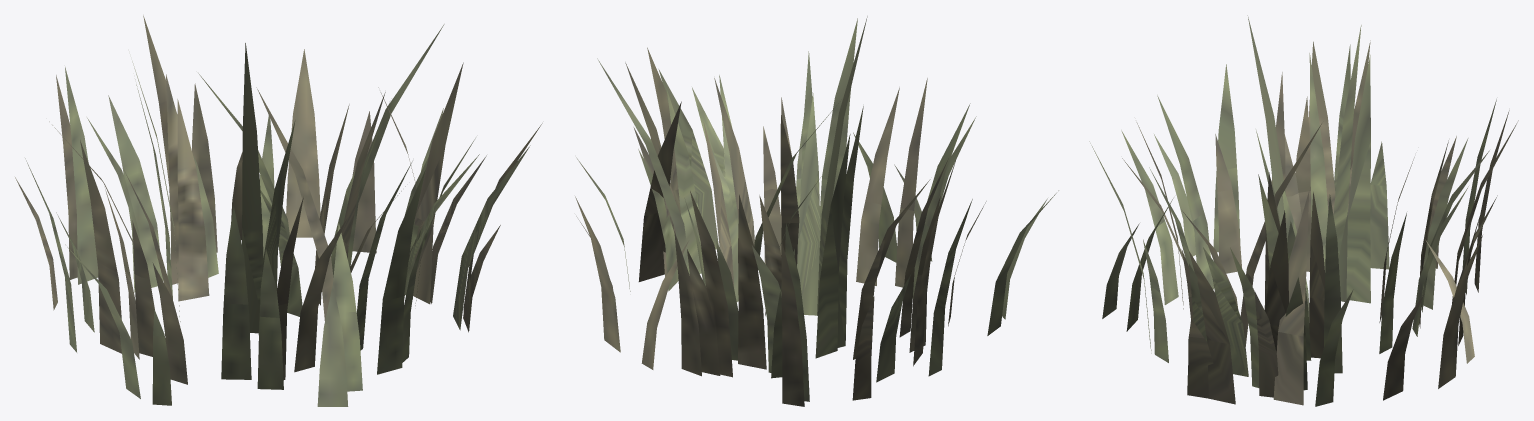
The model's file is grass_tuft_tall_02.glb.
3 views of the same model, side by side, from view 1: azimuth 30°, elevation 25°; view 2: azimuth 150°, elevation 25°; view 3: azimuth 270°, elevation 25° (orthographic). The views are drawn at different scales.
Visible parts, largest first — view 1: grass_tuft_tall_02; view 2: grass_tuft_tall_02; view 3: grass_tuft_tall_02.
Part boxes in pixels (x1,y1,x2,y2): grass_tuft_tall_02: (15, 15, 542, 406); grass_tuft_tall_02: (575, 16, 1058, 406); grass_tuft_tall_02: (1089, 15, 1518, 406).
Bounding box in the file's own units: 0.4781 × 0.3133 × 0.4158.
1 material, 1 textured.
